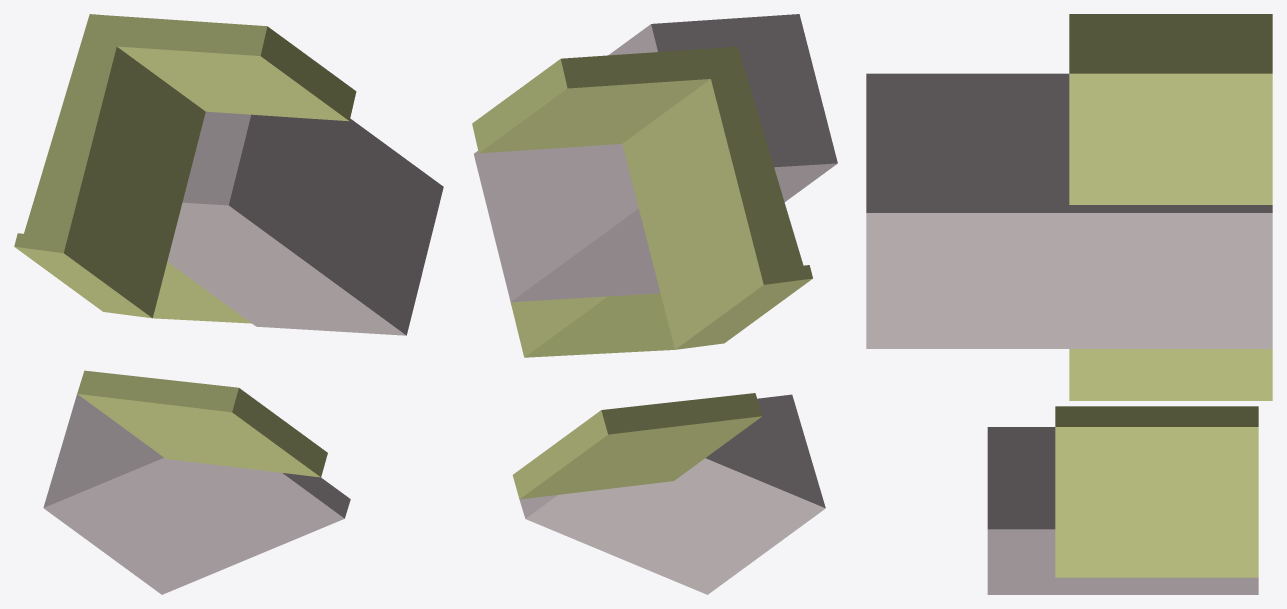
The picture shows the model from 3 angles, left to right: view 1: azimuth 30°, elevation 25°; view 2: azimuth 150°, elevation 25°; view 3: azimuth 270°, elevation 25°; orthographic projection. The views are drawn at different scales.
Visible parts, largest first — view 1: 0_1_3_2_2_1_1_2_2; view 2: 0_1_3_2_2_1_1_2_2; view 3: 0_1_3_2_2_1_1_2_2.
Boxes of the visible parts, bbox=[...] form: 0_1_3_2_2_1_1_2_2: bbox=[14, 14, 443, 594]; 0_1_3_2_2_1_1_2_2: bbox=[472, 14, 837, 594]; 0_1_3_2_2_1_1_2_2: bbox=[866, 14, 1272, 594].
Size of the model in its own units: 14.79 by 26.6 by 18.
